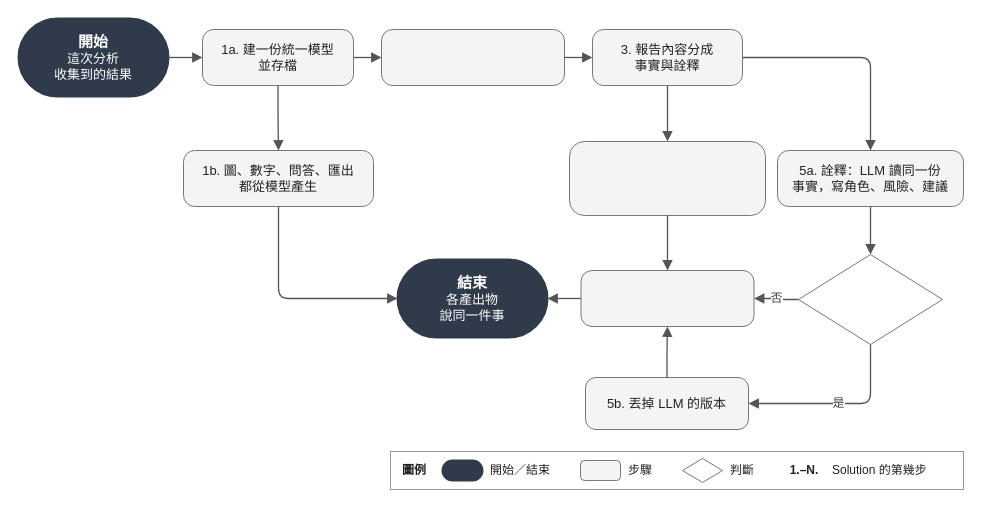
This 981x507 diagram has some shape labels left out. Here are the shapes that lost their labels. From the top down, the centre of each, then its label:
At (x=472, y=57): "2. 記下收集了哪些來源； 狀態三值，預設「未知」".
At (x=667, y=178): "4. 事實由程式從模型產生； 未知寫「未量測」與原因， 不寫 0".
At (x=667, y=298): "6. 拼成報告，標出程式 產生的段落；失敗要記錄".
At (x=870, y=299): "LLM 也寫了 事實段落？".
